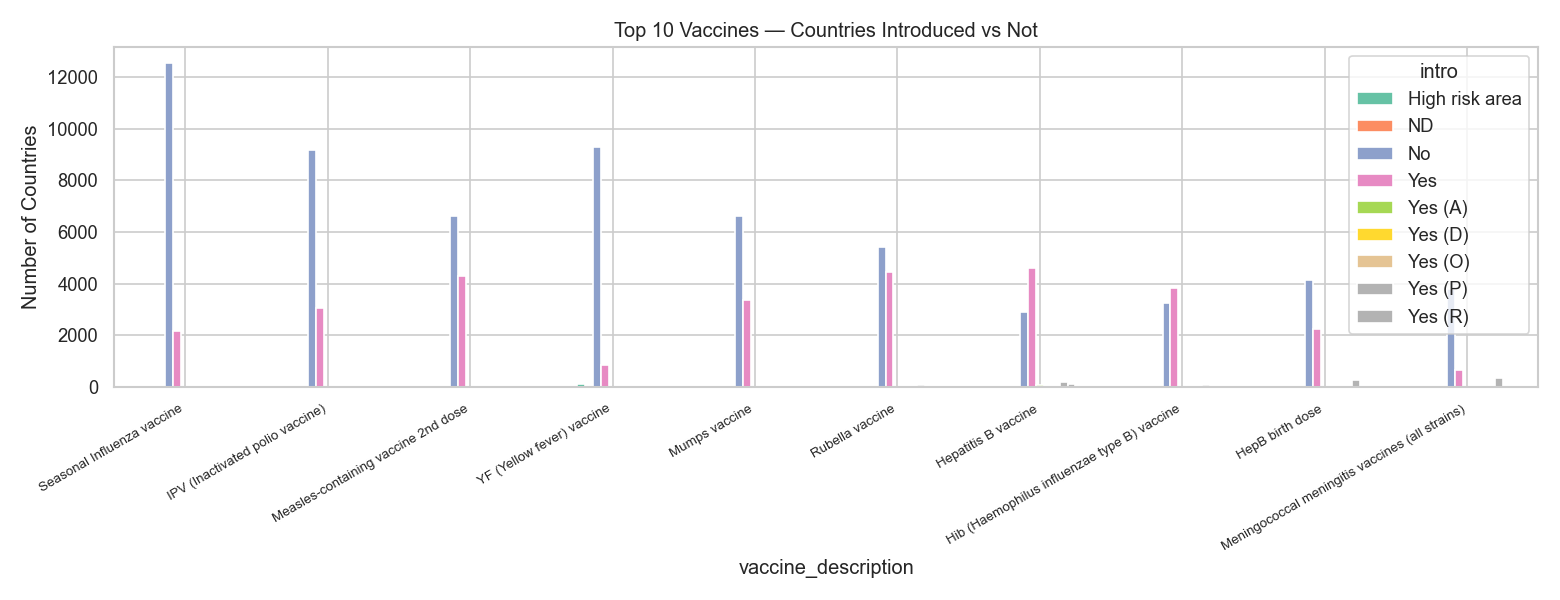

The dashboard page shown, as its layout file describes it:
{"tool":"powerbi","page":{"name":"Vaccine Introduction","canvas":[1280,720],"ordinal":5},"visuals":[{"type":"clusteredBarChart","fields":{"Y":["CountNonNull(cleaned_intro.intro)"],"Category":["cleaned_intro.vaccine_description"]},"box":[10,0,280,280],"z":0}]}

Visuals, with their boxes on the page's 1280x720 design canvas (x1, y1, x2, y2). These are canvas units, not pixel positions in the 1560x600 screenshot, which may show the page scaled, cropped or inside an application window:
clusteredBarChart - CountNonNull(cleaned_intro.intro) x cleaned_intro.vaccine_description: box(10, 0, 290, 280)
